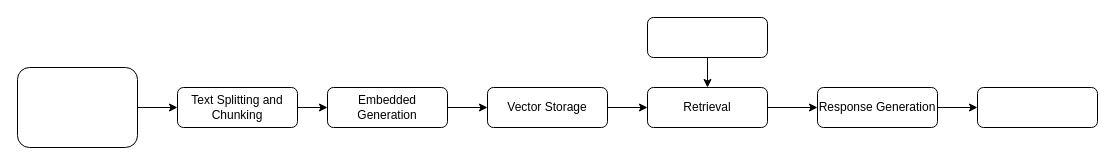
Some shapes in this 1115 by 165 pixel diagram are drawn without their labels. Each missing label, with the centre of its shape:
"Document L oading of Buying Procedure Data" belongs at (77,107).
"Output" belongs at (1037,107).
"User Query" belongs at (707,37).
